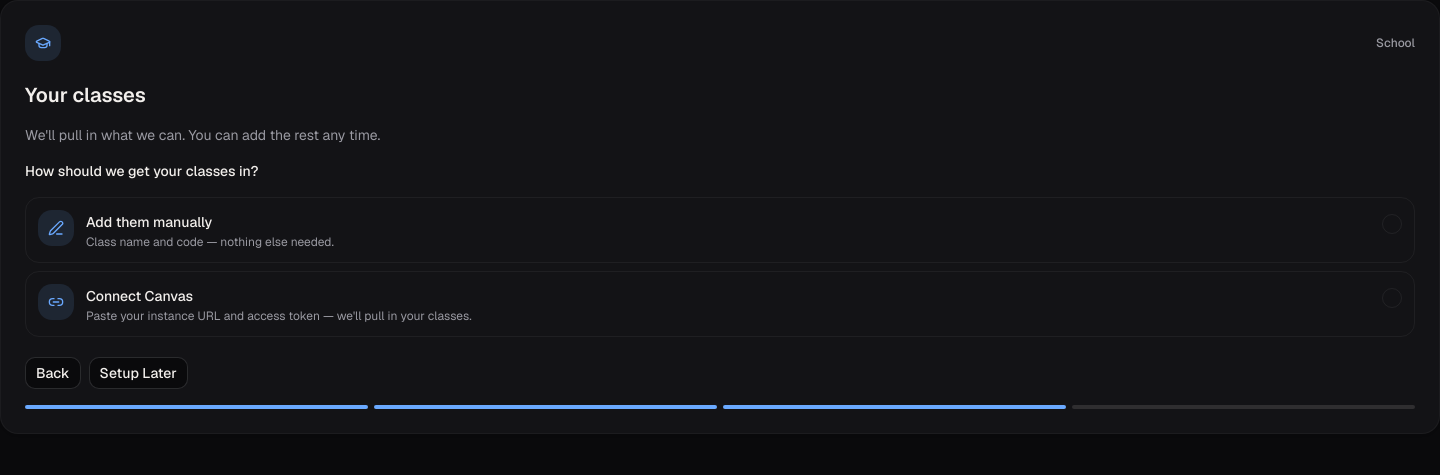
it: SchoolStep — ONB item 10 › Manual entry with syllabus upload folded in (item 10) › the manual screen offers an optional syllabus file input -- no separate upload source
Click the button with test id "school-source-manual".
click(56, 228)  # box [25, 197, 1415, 263]
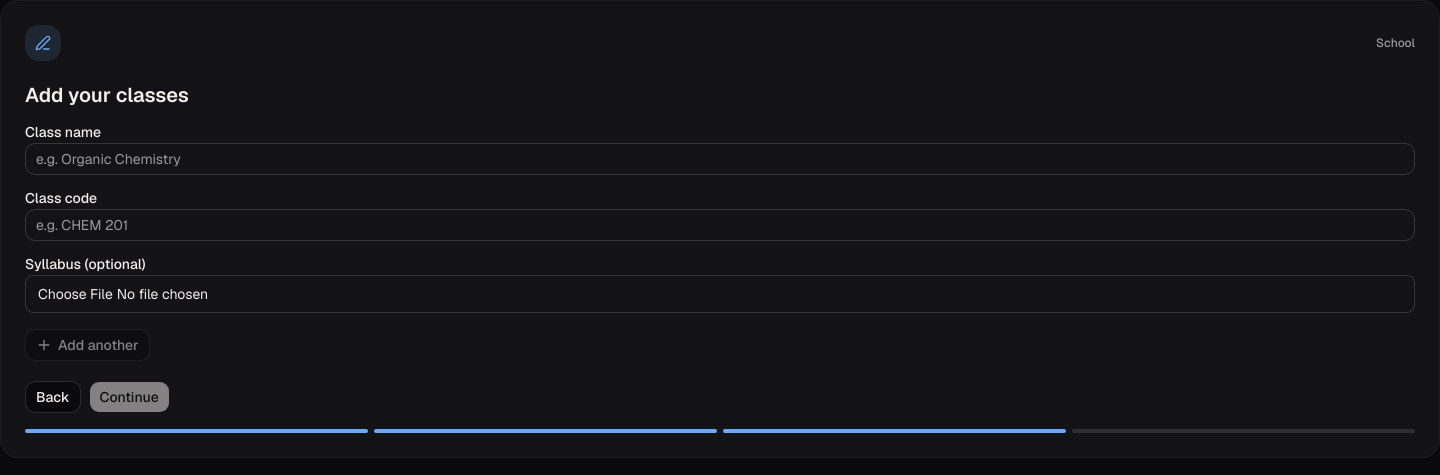
Now the file field with test id "school-manual-syllabus-file" is shown, box [25, 275, 1415, 313]
